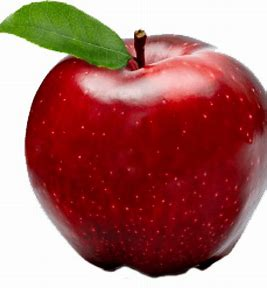inorganic: (4, 4, 265, 283)
